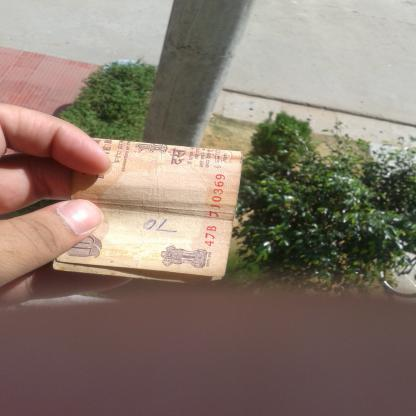Old10Front: (50, 136, 245, 284)
